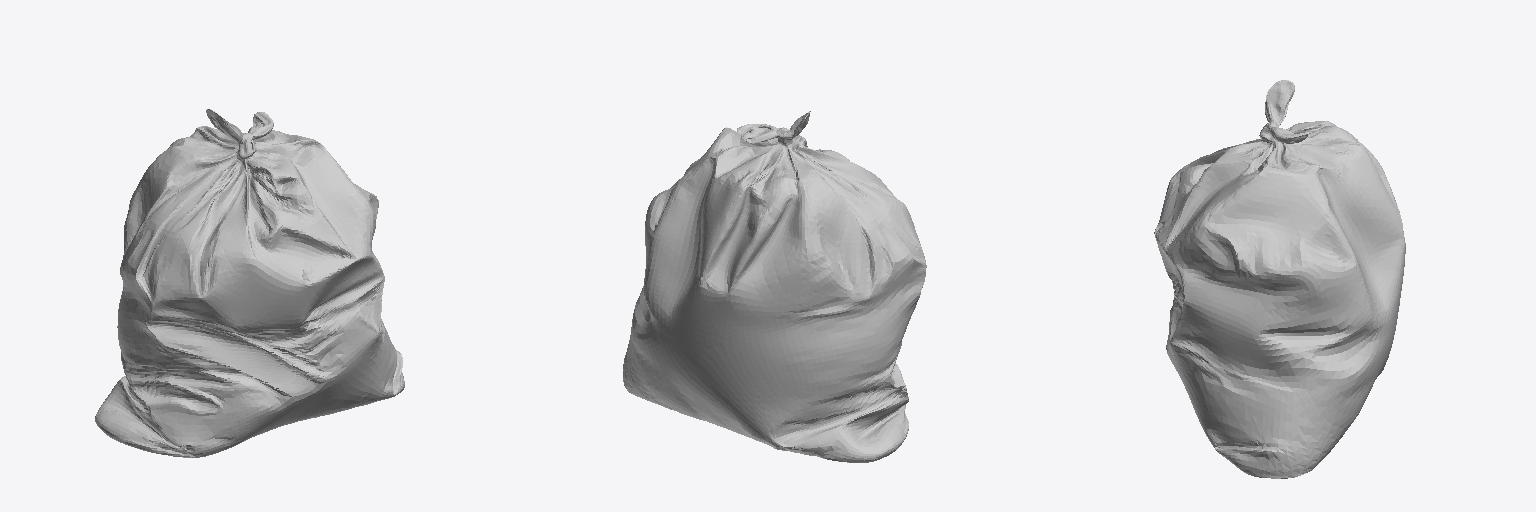
The model's file is MUSORNYPOKET.obj.
3 views of the same model, side by side, from view 1: azimuth 30°, elevation 25°; view 2: azimuth 150°, elevation 25°; view 3: azimuth 270°, elevation 25° (orthographic).
Parts seen in each view (by area): view 1: model; view 2: model; view 3: model.
Boxes of the visible parts, box(x1,y1,x2,y2) form: model: box(95, 109, 404, 457); model: box(623, 111, 926, 462); model: box(1154, 80, 1405, 478).
Bounding box in the file's own units: 1.79 × 1.89 × 1.39.